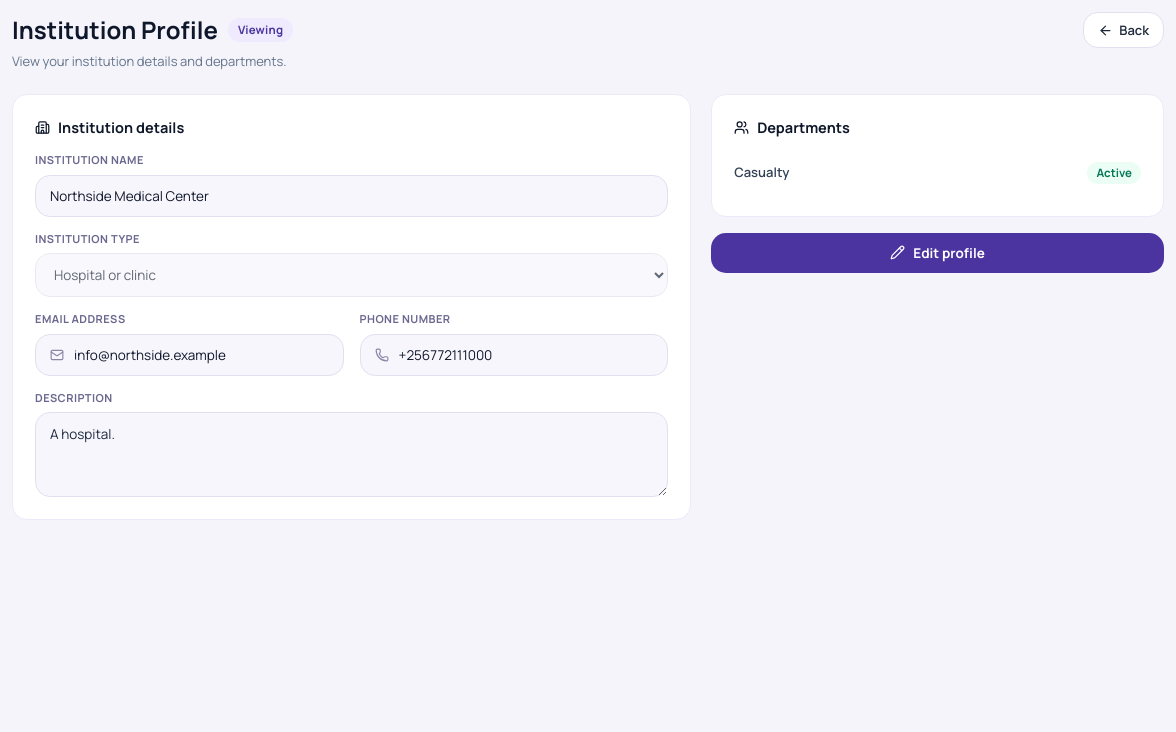
InstitutionProfilePage › adds a department while editing
Click the button "Edit profile" at (938, 252), box [711,232,1164,272]
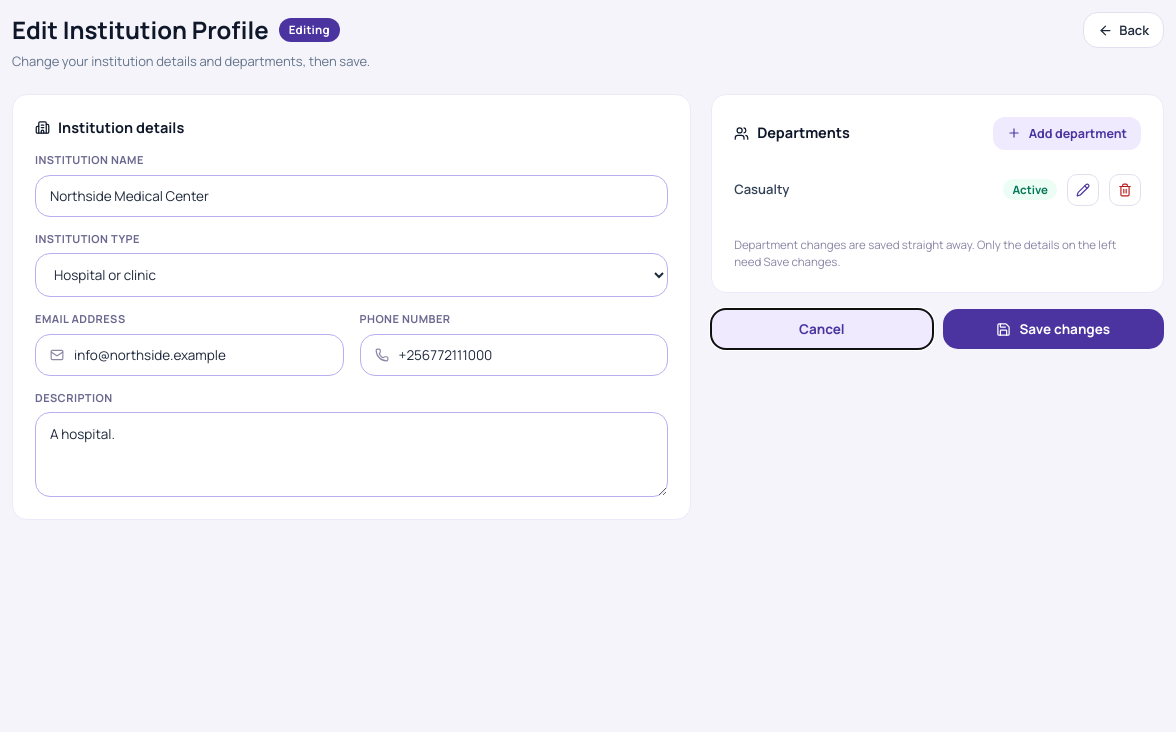
Click the button "Add department" at (1067, 133), box [993,116,1141,150]
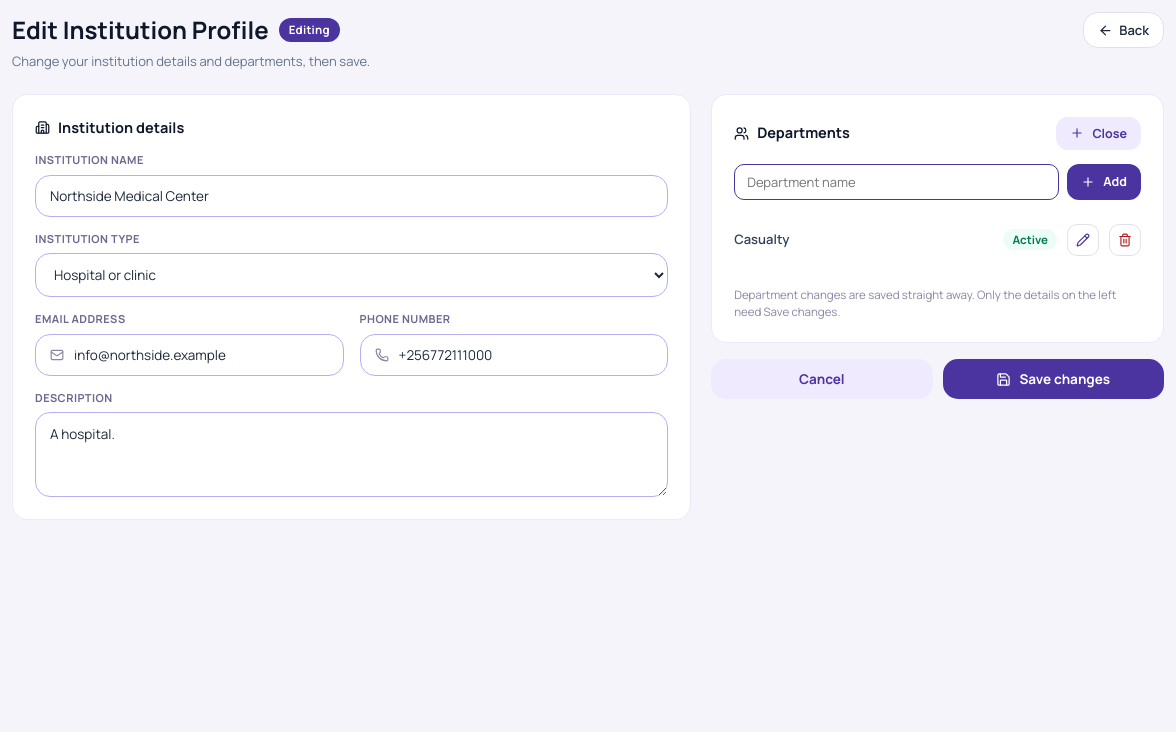
Type "Radiology" into the field named "New department name" at (897, 182), box [734,164,1059,200]
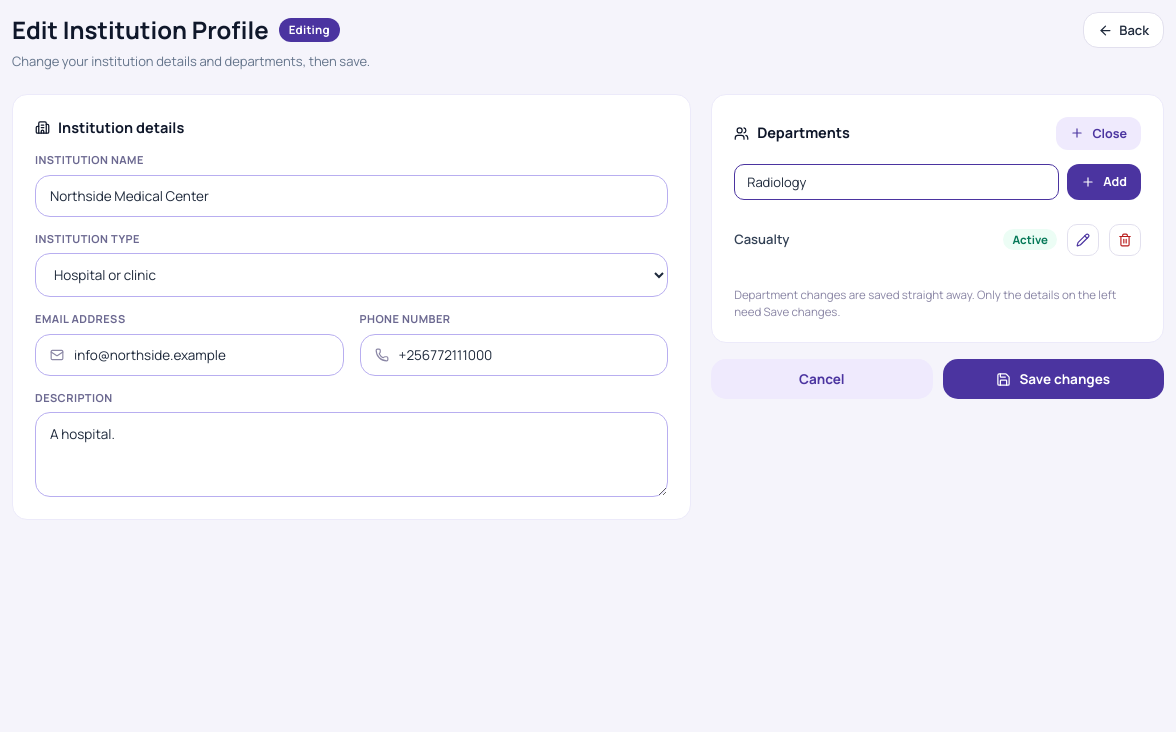
Click the button "Add" at (1104, 182), box [1067,164,1141,200]
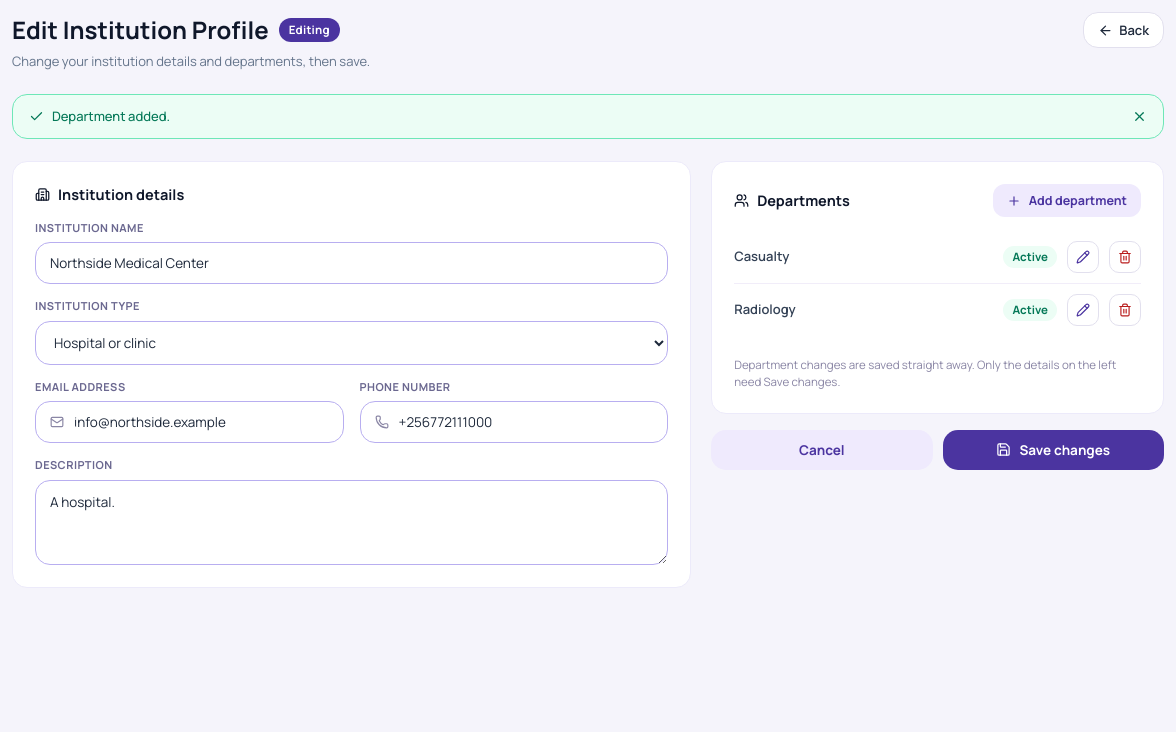
Now the text "Radiology" is shown, box [734,300,796,318]
